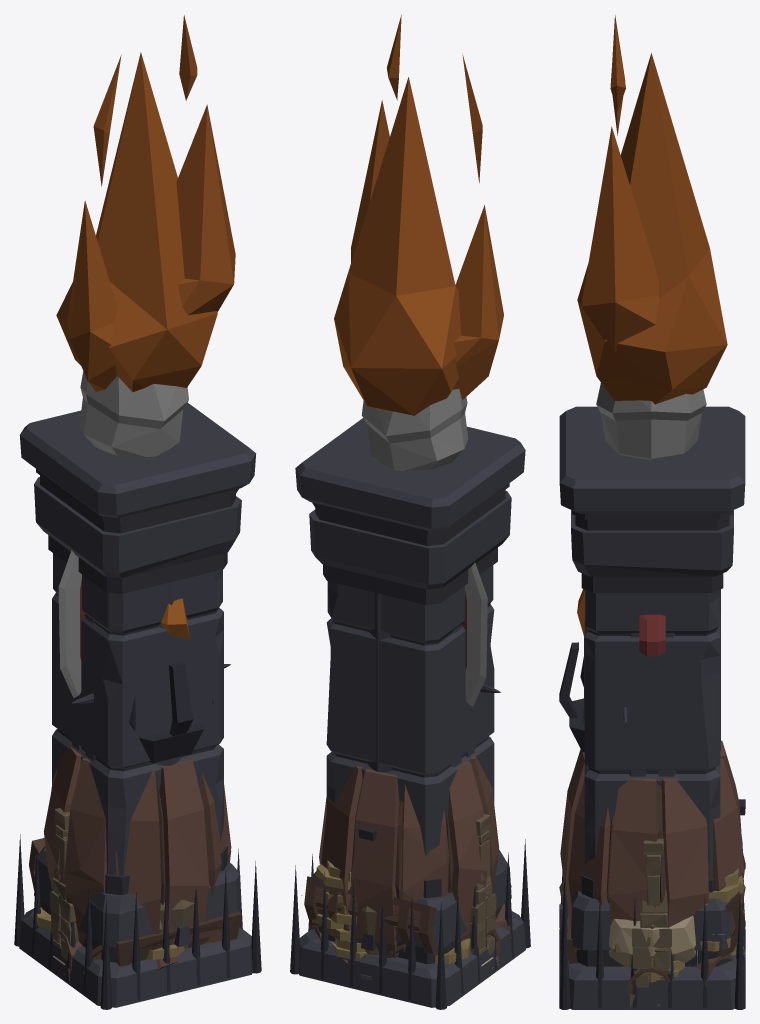
File: dungeon.glb
3 views of the same model, side by side, from view 1: azimuth 30°, elevation 25°; view 2: azimuth 150°, elevation 25°; view 3: azimuth 270°, elevation 25° (orthographic). The views are drawn at different scales.
Visible parts, largest first — view 1: wtorch, column, column2, barrel2, spikes, dtorch, axe, chestgold, arch, vase, coins; view 2: wtorch, column, column2, barrel2, spikes, chestgold, axe, coins, arch; view 3: wtorch, column, column2, barrel2, arch, spikes, skull, dtorch, coins, axe, chestgold.
Boxes of the visible parts, x1,y1,x2,y2 form: wtorch: (56, 15, 235, 457); column: (19, 469, 252, 1007); column2: (19, 402, 256, 978); barrel2: (44, 746, 231, 945); spikes: (14, 834, 261, 1009); dtorch: (129, 598, 213, 762); axe: (58, 550, 84, 697); chestgold: (29, 838, 241, 966); arch: (50, 808, 78, 983); vase: (58, 787, 194, 950); coins: (36, 907, 184, 959); wtorch: (334, 14, 503, 470); column: (298, 483, 525, 1007); column2: (295, 418, 525, 979); barrel2: (319, 754, 498, 957); spikes: (290, 839, 530, 1009); chestgold: (304, 876, 511, 955); axe: (462, 562, 487, 706); coins: (312, 860, 470, 967); arch: (468, 814, 498, 968); wtorch: (577, 15, 727, 460); column: (559, 510, 745, 1009); column2: (559, 406, 745, 980); barrel2: (560, 740, 744, 927); arch: (630, 838, 671, 1008); spikes: (559, 872, 745, 1009); skull: (609, 916, 695, 967); dtorch: (559, 589, 745, 815); coins: (560, 868, 744, 982); axe: (639, 614, 665, 656); chestgold: (559, 853, 745, 963).
Bounding box in the file's own units: 1 × 5.71 × 1.
